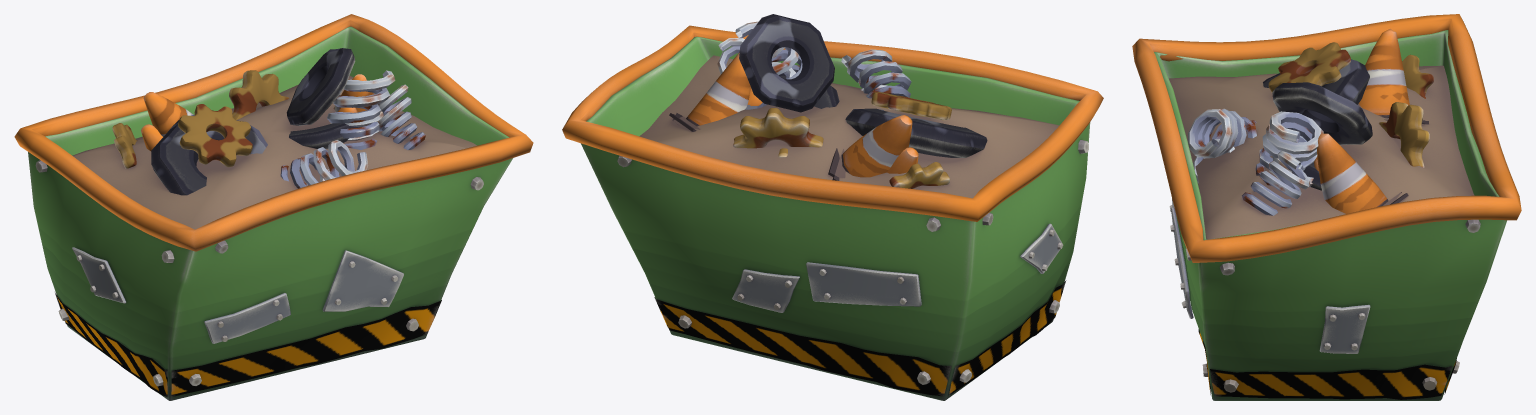
File: StorageCrate.fbx
The picture shows the model from 3 angles, left to right: view 1: azimuth 30°, elevation 25°; view 2: azimuth 150°, elevation 25°; view 3: azimuth 270°, elevation 25°; orthographic projection. The views are drawn at different scales.
Visible parts, largest first — view 1: Body, Trim, Fill_6, Hazard, Plates, Fill_6_Cog11, Fill_6_Tire10, Fill_6_Tire1, Fill_6_Spring3, Fill_6_Spring6, Fill_6_Cog2, Fill_6_Spring9 (+4 smaller); view 2: Body, Trim, Fill_6, Hazard, Plates, Fill_6_Tire10, Fill_6_Tire1, Fill_6_Cone8, Fill_6_Cone4, Fill_6_Cog2, Fill_6_Spring6, Bolts (+6 smaller); view 3: Body, Trim, Fill_6, Hazard, Fill_6_Tire10, Fill_6_Cone4, Fill_6_Cone8, Fill_6_Spring3, Plates, Fill_6_Spring6, Fill_6_Cog11, Fill_6_Spring9 (+4 smaller).
Part boxes in pixels (<box>): Body: <box>28,26,512,400</box>; Trim: <box>14,14,533,251</box>; Fill_6: <box>72,75,476,229</box>; Hazard: <box>55,293,441,397</box>; Plates: <box>72,247,403,343</box>; Fill_6_Cog11: <box>178,104,252,167</box>; Fill_6_Tire10: <box>286,48,355,125</box>; Fill_6_Tire1: <box>151,114,267,195</box>; Fill_6_Spring3: <box>327,70,395,149</box>; Fill_6_Spring6: <box>280,140,367,188</box>; Fill_6_Cog2: <box>229,70,288,119</box>; Fill_6_Spring9: <box>378,84,425,149</box>; Body: <box>581,36,1090,400</box>; Trim: <box>562,25,1103,221</box>; Fill_6: <box>639,55,1059,198</box>; Hazard: <box>654,280,1066,396</box>; Plates: <box>732,223,1063,312</box>; Fill_6_Tire10: <box>739,14,834,112</box>; Fill_6_Tire1: <box>845,108,987,157</box>; Fill_6_Cone8: <box>828,115,912,180</box>; Fill_6_Cone4: <box>669,52,750,131</box>; Fill_6_Cog2: <box>733,108,823,148</box>; Fill_6_Spring6: <box>841,49,911,98</box>; Bolts: <box>617,140,1088,384</box>; Body: <box>1154,30,1506,400</box>; Trim: <box>1132,14,1521,262</box>; Fill_6: <box>1169,65,1474,239</box>; Hazard: <box>1198,329,1456,399</box>; Fill_6_Tire10: <box>1272,82,1372,145</box>; Fill_6_Cone4: <box>1317,133,1408,213</box>; Fill_6_Cone8: <box>1358,29,1428,124</box>; Fill_6_Spring3: <box>1255,111,1323,175</box>; Plates: <box>1171,198,1370,353</box>; Fill_6_Spring6: <box>1188,108,1256,158</box>; Fill_6_Cog11: <box>1268,42,1350,92</box>; Fill_6_Spring9: <box>1241,151,1310,215</box>.
Size of the model in its own units: 0.1299 by 0.0852 by 0.0986.
Materials: 15 (15 with a texture image).
